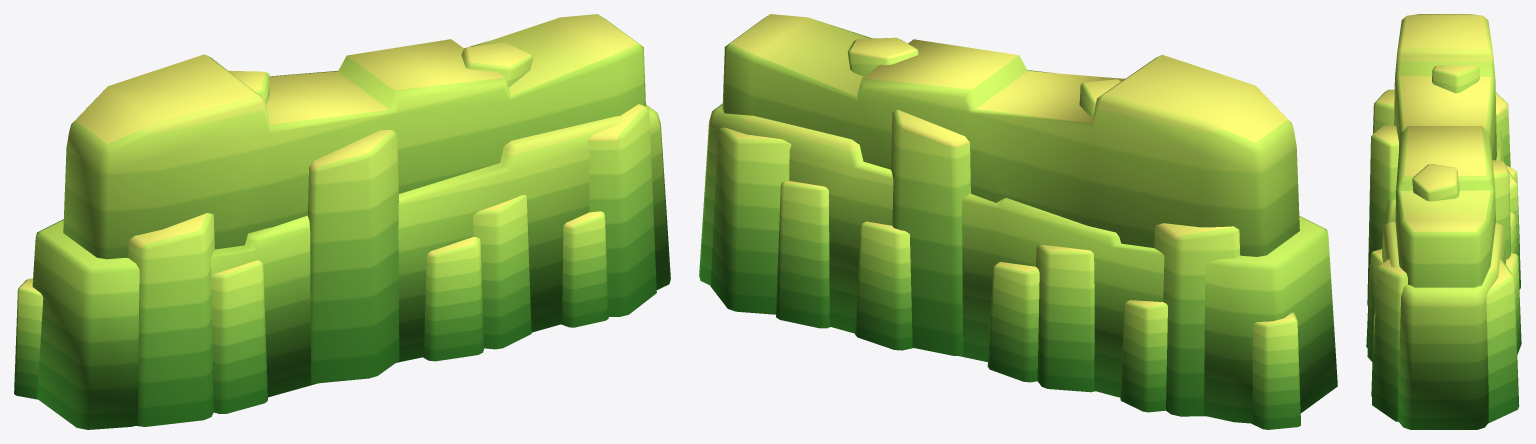
File: cliff_001.fbx
3 views of the same model, side by side, from view 1: azimuth 30°, elevation 25°; view 2: azimuth 150°, elevation 25°; view 3: azimuth 270°, elevation 25° (orthographic). The views are drawn at different scales.
Visible parts, largest first — view 1: cliff.001; view 2: cliff.001; view 3: cliff.001.
Part boxes in pixels (bbox=[...]): cliff.001: bbox=[14, 14, 670, 429]; cliff.001: bbox=[699, 14, 1337, 429]; cliff.001: bbox=[1366, 14, 1521, 429].
Size of the model in its own units: 167 by 76.8 by 47.61.
